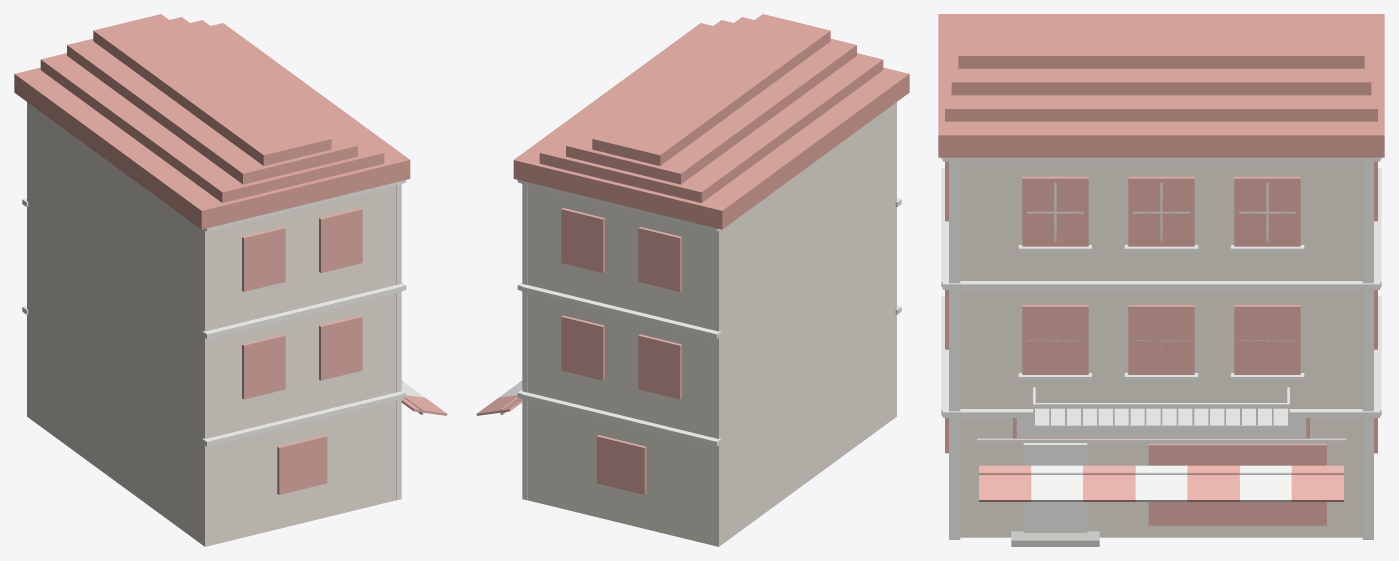
Rendered from Shop_B.fbx.
The picture shows the model from 3 angles, left to right: view 1: azimuth 30°, elevation 25°; view 2: azimuth 150°, elevation 25°; view 3: azimuth 270°, elevation 25°; orthographic projection. The views are drawn at different scales.
Visible parts, largest first — view 1: Shop_B; view 2: Shop_B; view 3: Shop_B.
Part boxes in pixels (<box>): Shop_B: <box>14,14,447,546</box>; Shop_B: <box>476,14,909,546</box>; Shop_B: <box>938,14,1384,546</box>.
Bounding box in the file's own units: 8.18 × 11.18 × 10.1.
